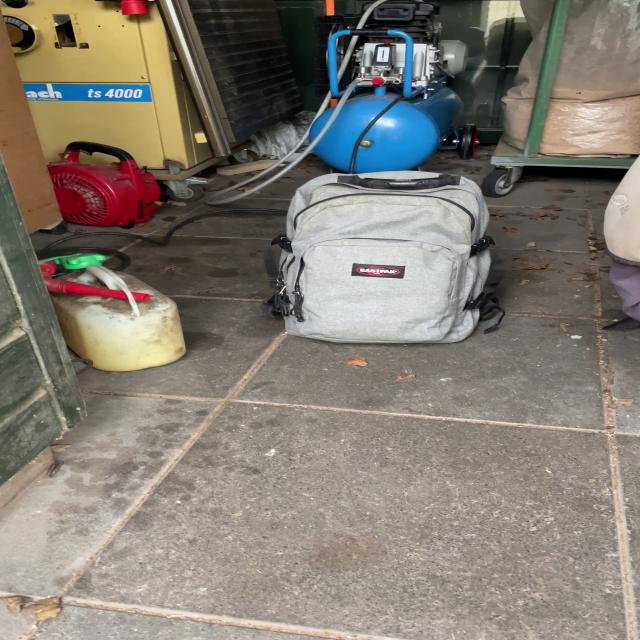backpack: (250, 162, 514, 353)
